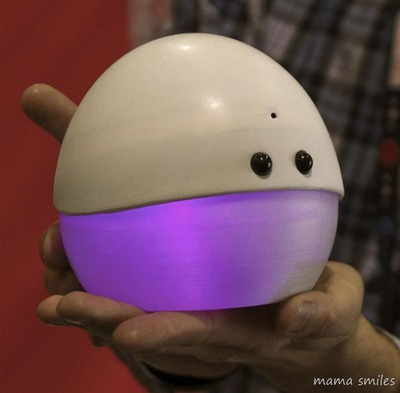mira_robot: (53, 32, 345, 312)
